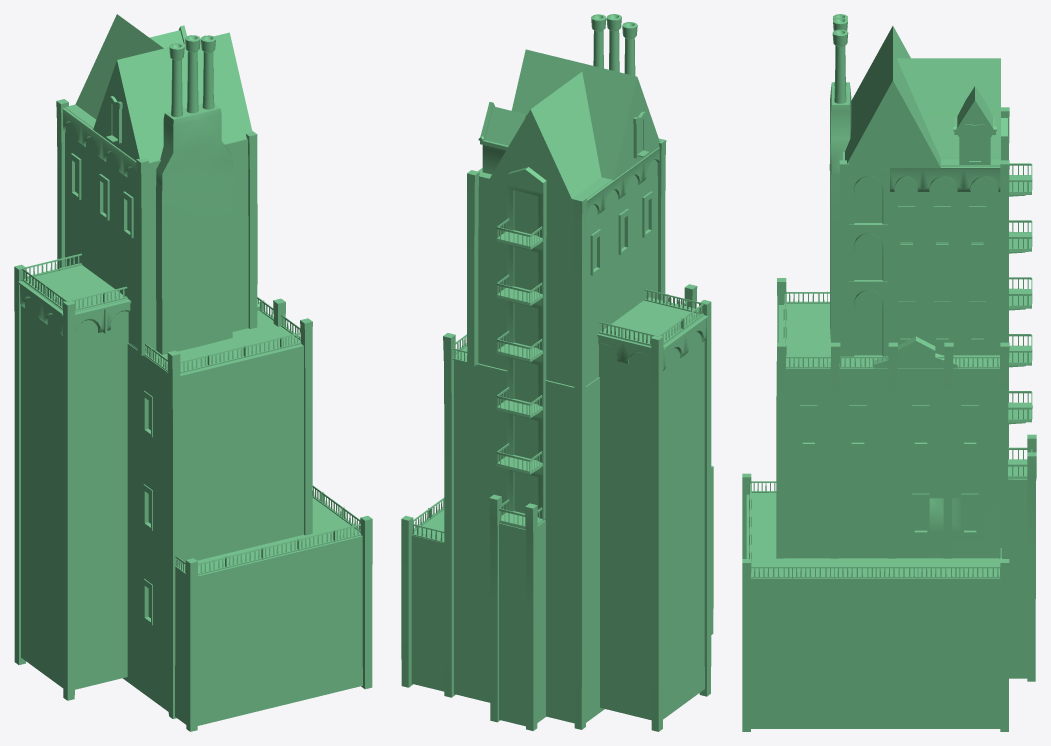
Rendered from Bgr_Building6.fbx.
3 views of the same model, side by side, from view 1: azimuth 30°, elevation 25°; view 2: azimuth 150°, elevation 25°; view 3: azimuth 270°, elevation 25° (orthographic).
Visible parts, largest first — view 1: Bgr_Building6; view 2: Bgr_Building6; view 3: Bgr_Building6.
Boxes of the visible parts, x1=… form: Bgr_Building6: x1=14, y1=14, x2=372, y2=731; Bgr_Building6: x1=401, y1=14, x2=713, y2=731; Bgr_Building6: x1=742, y1=14, x2=1036, y2=731.
Size of the model in its own units: 2026 by 5123 by 2113.
